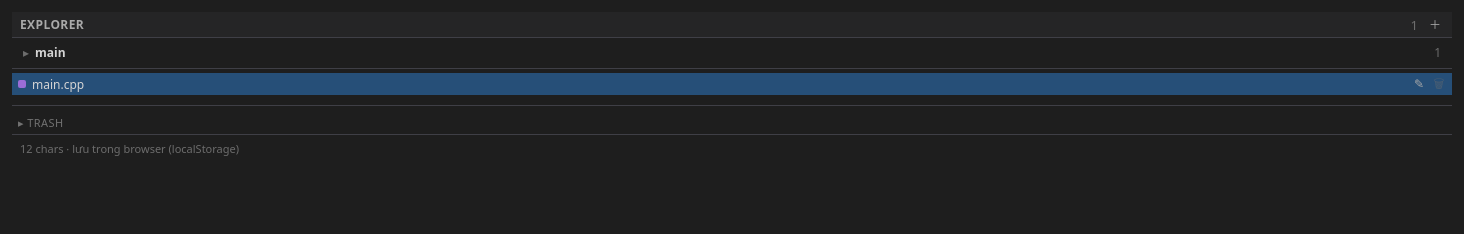
Test: renaming a project › saves the new name
The image size is (1464, 234).
Click the button with aria-label "Đổi project".
click(50, 52)  # box [16,40,1448,64]
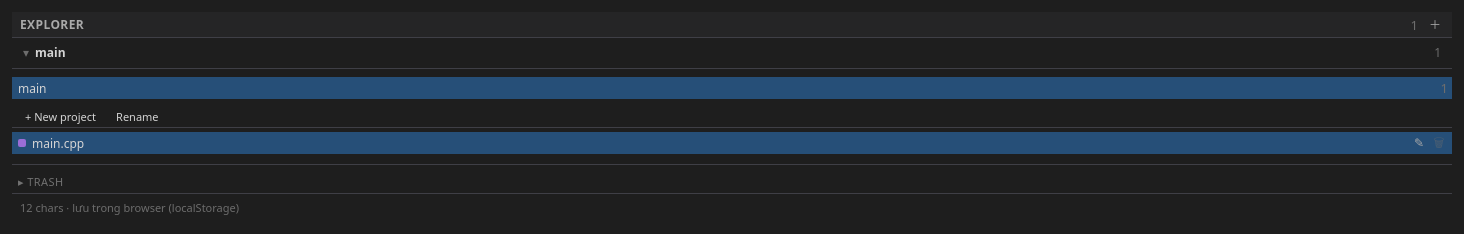
Click the button "Rename".
click(137, 116)  # box [109,107,166,125]
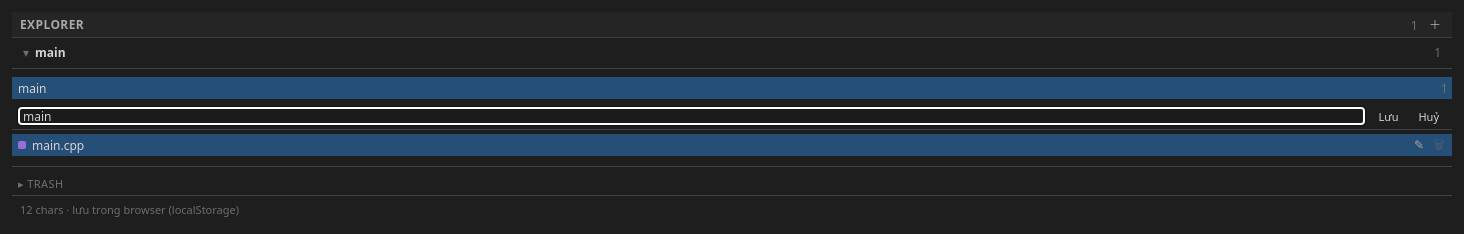
Replace the text in the field named "Project name" with "đồ án" at (692, 116), box [18,107,1366,125]
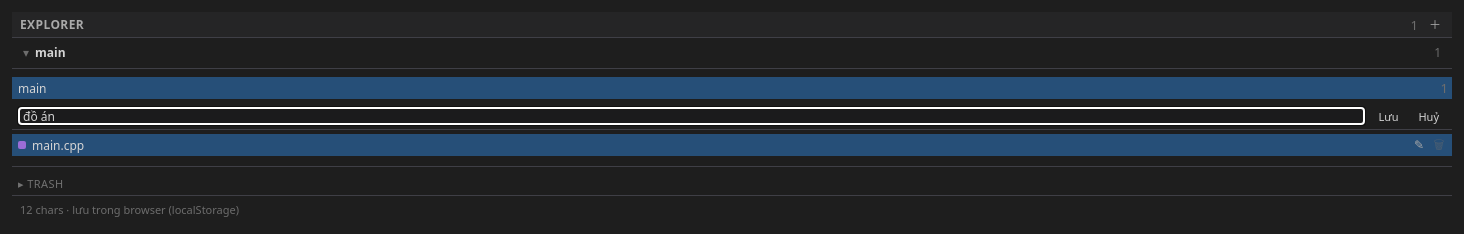
Click the button "Lưu".
click(1388, 116)  # box [1372,107,1406,125]
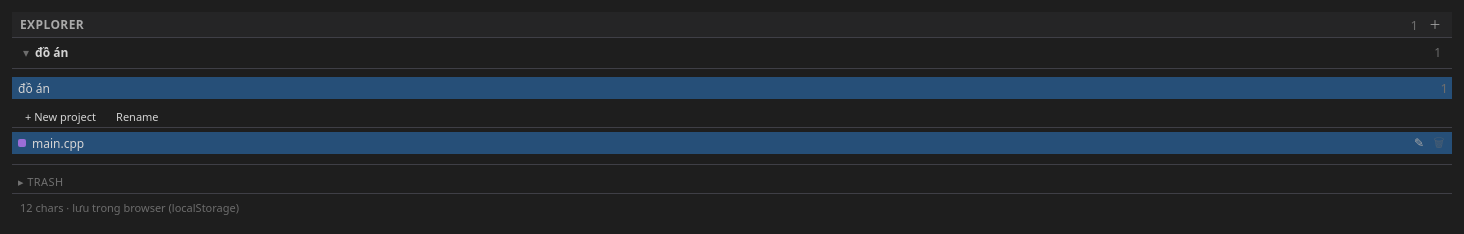
Check: the text "đồ án" is shown, box [35,44,68,60]
